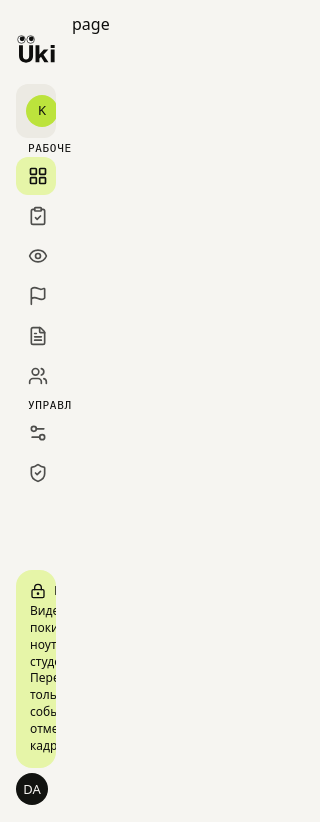
Test: the shell in Russian: sidebar, 3.4a and 0.1c › opens the account menu with the language and Log out
This screenshot has width=320, height=822.
Press the mouse on the button named "Dana Akhmetova" at (36, 789), box [16,772,56,806]
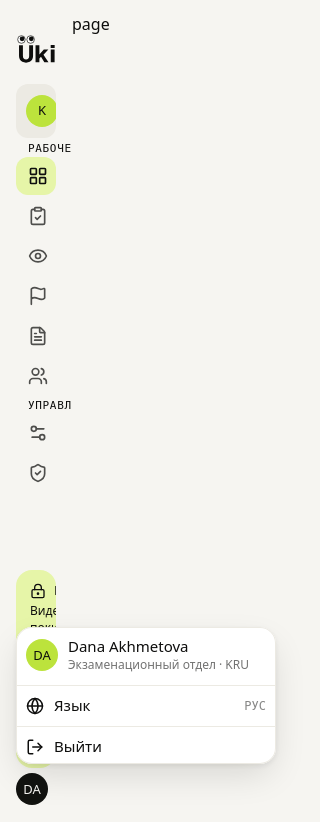
expect the menu item "Язык РУС" is shown: met, box [26,695,266,715]
expect the menu item "Выйти" is shown: met, box [26,736,102,756]
expect the text "РУС" is shown: met, box [244,698,266,714]
